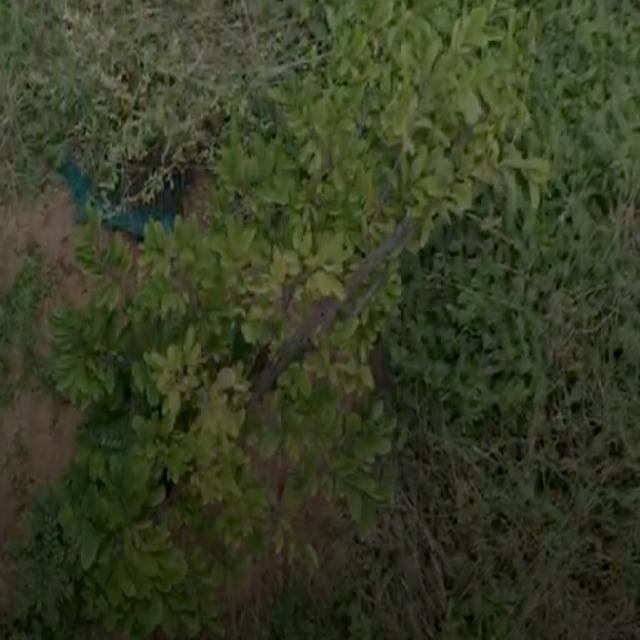notMangoTree: (42, 0, 532, 640)
